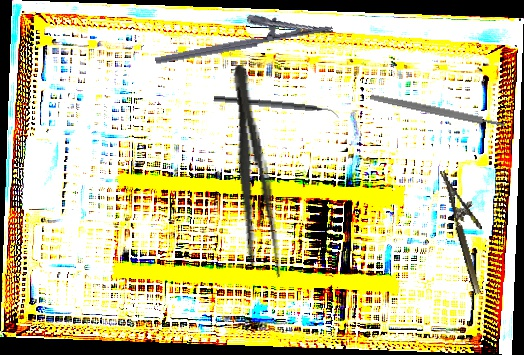Chopper: (212, 95, 341, 121)
Dressing Forceps: (220, 62, 286, 282)
Needle Holder: (150, 0, 334, 66), (439, 164, 499, 296)
Scalpel Handle: (369, 92, 506, 130)
